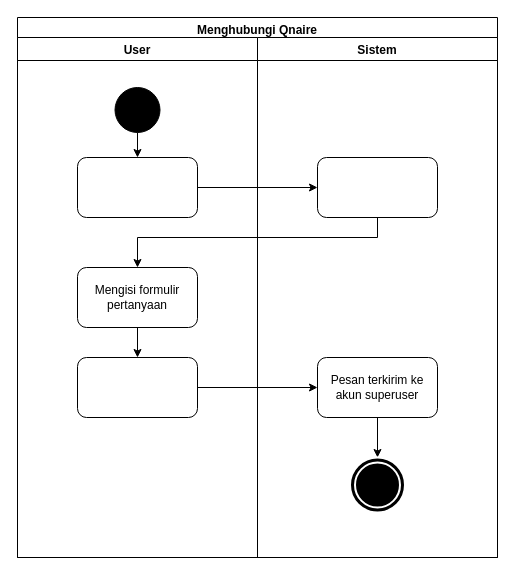
Image size: 515x575. Some labels were removed from this diagram. The centre of each missing label's shape, as x and y in pixels:
Membuka halaman contact us: point 137,187
Menampilkan halaman contact us: point 377,187
Menekan tombol submit: point 137,387
